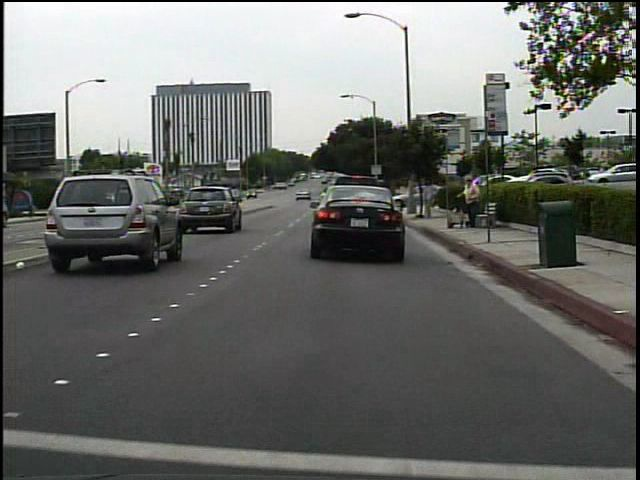person: (456, 173, 485, 229), (418, 174, 442, 222)
